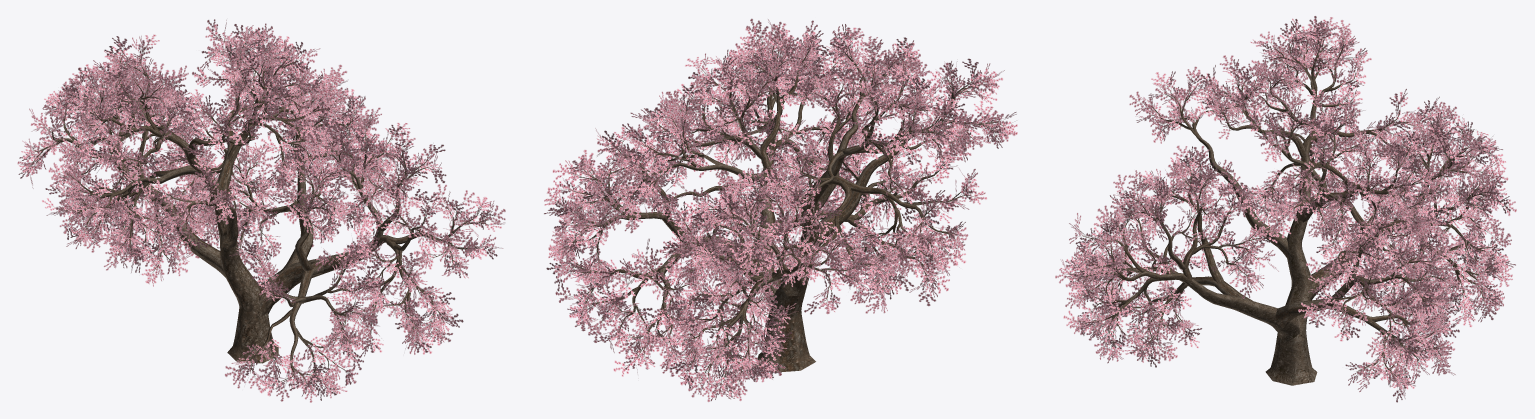
File: my_tree-transformed.glb
3 renders of one model, left to right at view 1: azimuth 30°, elevation 25°; view 2: azimuth 150°, elevation 25°; view 3: azimuth 270°, elevation 25°, orthographic. The views are drawn at different scales.
Visible parts, largest first — view 1: nodes[1], nodes[0]; view 2: nodes[1], nodes[0]; view 3: nodes[1], nodes[0].
Part boxes in pixels (x1=…): nodes[1]: x1=17, y1=19, x2=505, y2=402; nodes[0]: x1=30, y1=35, x2=490, y2=386; nodes[1]: x1=544, y1=18, x2=1017, y2=402; nodes[0]: x1=561, y1=37, x2=1005, y2=389; nodes[1]: x1=1055, y1=16, x2=1516, y2=402; nodes[0]: x1=1069, y1=32, x2=1499, y2=385.
Size of the model in its own units: 77.95 by 66.41 by 89.63.
Materials: 2 (2 with a texture image).
